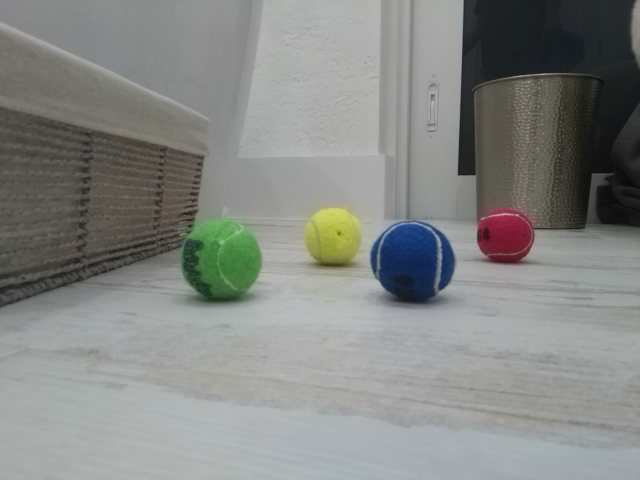blue-ball: (370, 219, 456, 302)
green-ball: (179, 218, 262, 301)
red-ball: (476, 206, 535, 263)
yellow-ball: (303, 206, 363, 267)
